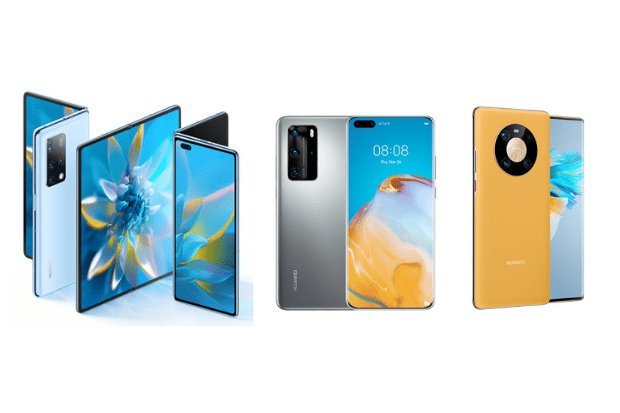phone: (344, 110, 442, 315), (469, 105, 551, 311), (167, 131, 243, 321)
